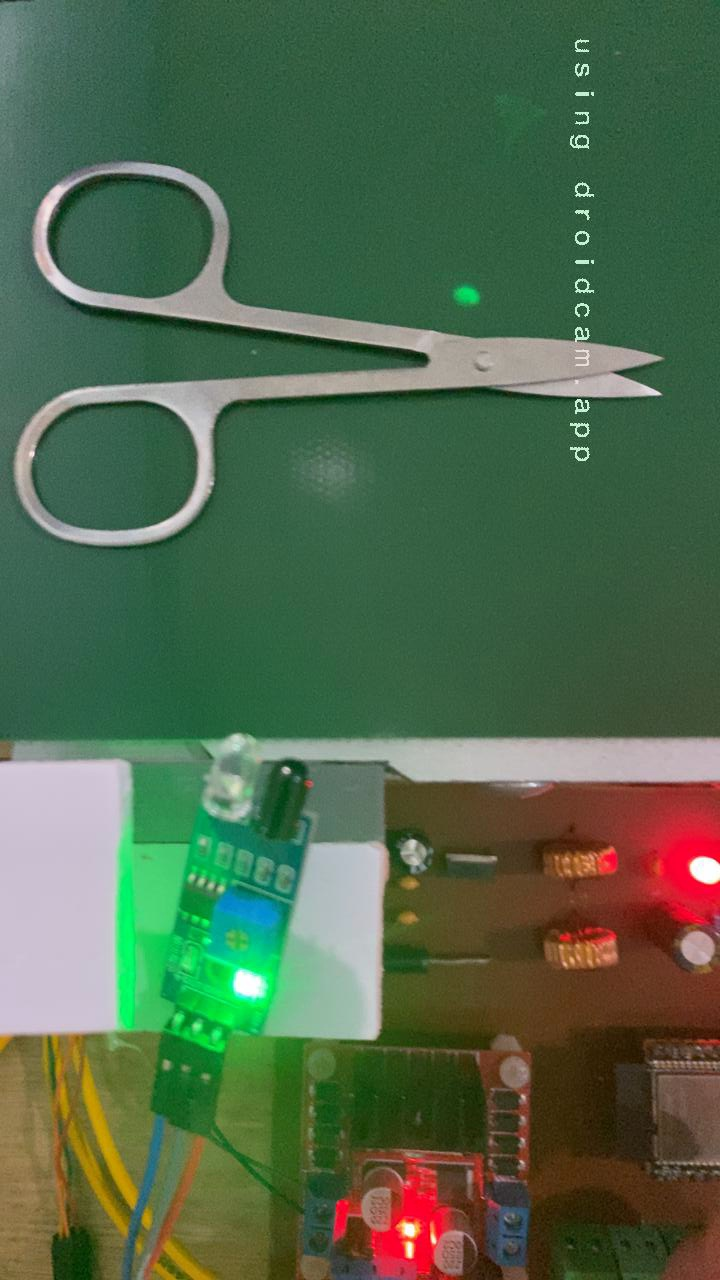scissor: (6, 155, 669, 554)
